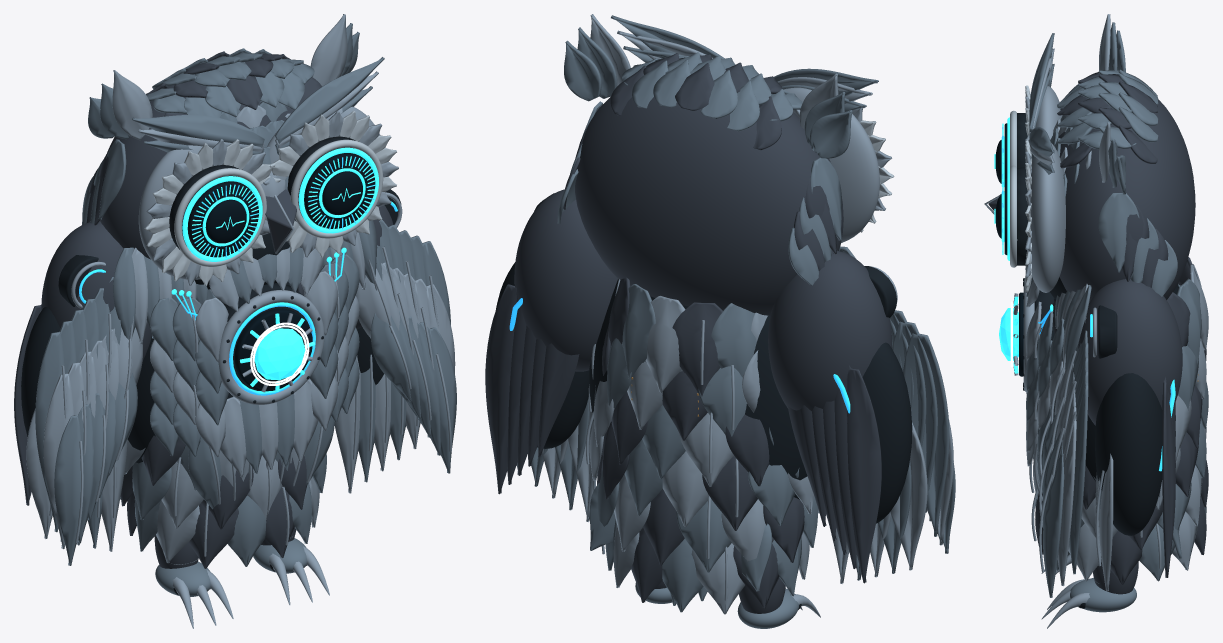
Rendered from sentinel-63714d75.glb.
3 renders of one model, left to right at view 1: azimuth 30°, elevation 25°; view 2: azimuth 150°, elevation 25°; view 3: azimuth 270°, elevation 25°, orthographic. The views are drawn at different scales.
Visible parts, largest first — view 1: LUCA / Blue steel / satin titanium, LUCA / Palladium / feather edges, LUCA / Obsidian / anodized graphite, LUCA / Pearl titanium / facial disk, LUCA / Black optical glass, LUCA / Recesses / carbon ceramic, LUCA / Ice blue / active optics, LUCA / Electric blue / data bus, LUCA / Cold white / instrument marks; view 2: LUCA / Obsidian / anodized graphite, LUCA / Blue steel / satin titanium, LUCA / Palladium / feather edges, LUCA / Recesses / carbon ceramic, LUCA / Pearl titanium / facial disk; view 3: LUCA / Obsidian / anodized graphite, LUCA / Blue steel / satin titanium, LUCA / Palladium / feather edges, LUCA / Recesses / carbon ceramic, LUCA / Pearl titanium / facial disk, LUCA / Ice blue / active optics, LUCA / Black optical glass, LUCA / Electric blue / data bus.
Part boxes in pixels (x1,y1,x2,y2): LUCA / Blue steel / satin titanium: [35, 23, 456, 596]; LUCA / Palladium / feather edges: [26, 14, 455, 628]; LUCA / Obsidian / anodized graphite: [14, 51, 393, 568]; LUCA / Pearl titanium / facial disk: [144, 110, 396, 285]; LUCA / Black optical glass: [188, 153, 375, 391]; LUCA / Recesses / carbon ceramic: [21, 136, 401, 595]; LUCA / Ice blue / active optics: [171, 147, 378, 391]; LUCA / Electric blue / data bus: [79, 157, 397, 395]; LUCA / Cold white / instrument marks: [250, 322, 309, 385]; LUCA / Obsidian / anodized graphite: [485, 53, 891, 613]; LUCA / Blue steel / satin titanium: [531, 15, 955, 628]; LUCA / Palladium / feather edges: [516, 14, 953, 617]; LUCA / Recesses / carbon ceramic: [496, 193, 912, 609]; LUCA / Pearl titanium / facial disk: [860, 120, 894, 232]; LUCA / Obsidian / anodized graphite: [988, 72, 1208, 594]; LUCA / Blue steel / satin titanium: [1026, 22, 1208, 612]; LUCA / Palladium / feather edges: [984, 14, 1208, 628]; LUCA / Recesses / carbon ceramic: [1017, 113, 1178, 608]; LUCA / Pearl titanium / facial disk: [1010, 85, 1031, 291]; LUCA / Ice blue / active optics: [994, 117, 1053, 373]; LUCA / Black optical glass: [995, 123, 1023, 376]; LUCA / Electric blue / data bus: [1002, 123, 1175, 471].
Size of the model in its own units: 3.96 by 4.99 by 1.92.
